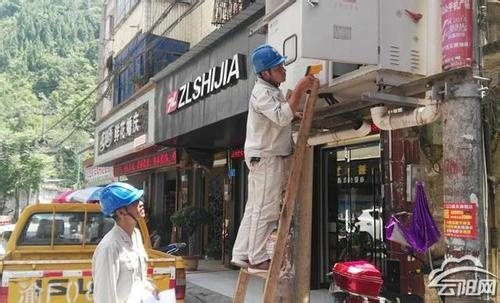blue: (100, 182, 146, 229), (250, 44, 290, 83)
